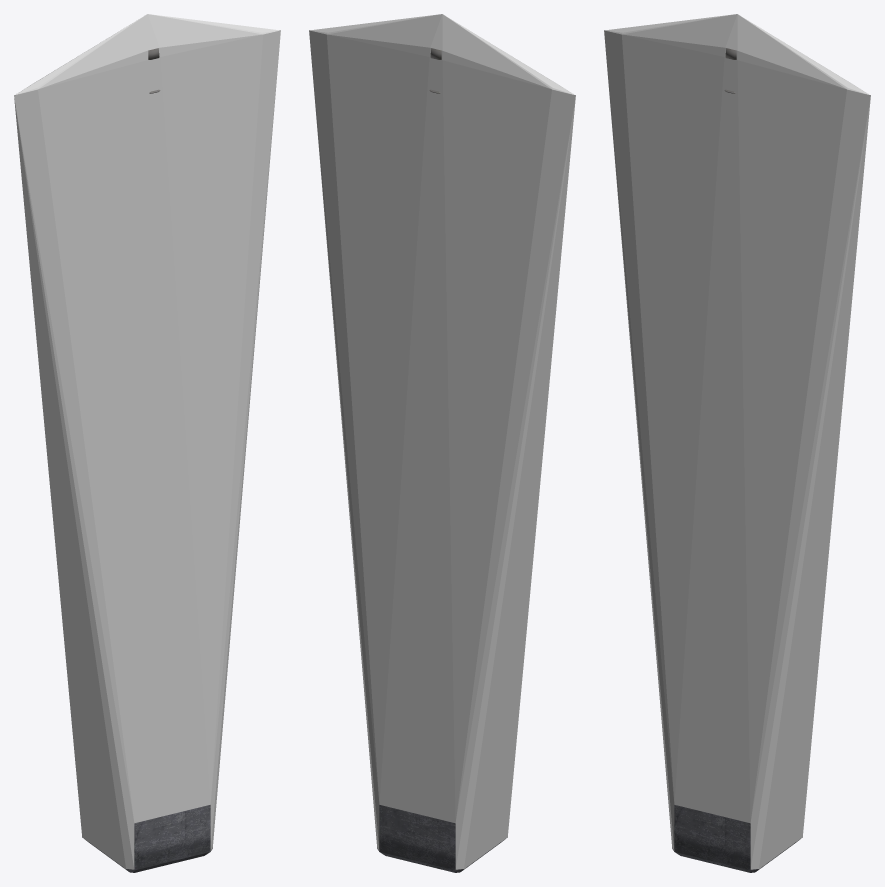
The model's file is banner_pole.webp.glb.
3 views of the same model, side by side, from view 1: azimuth 30°, elevation 25°; view 2: azimuth 150°, elevation 25°; view 3: azimuth 330°, elevation 25° (orthographic).
Visible parts, largest first — view 1: COL, FRAC_1; view 2: COL, FRAC_1; view 3: COL, FRAC_1.
Boxes of the visible parts, left/top/right/bottom form: COL: left=14, top=14, right=280, bottom=869; FRAC_1: left=82, top=805, right=212, bottom=872; COL: left=309, top=14, right=575, bottom=869; FRAC_1: left=377, top=805, right=507, bottom=872; COL: left=604, top=14, right=870, bottom=869; FRAC_1: left=672, top=805, right=802, bottom=872.
Size of the model in its own units: 1.54 by 4.6 by 0.5.
Materials: 1 (1 with a texture image).
